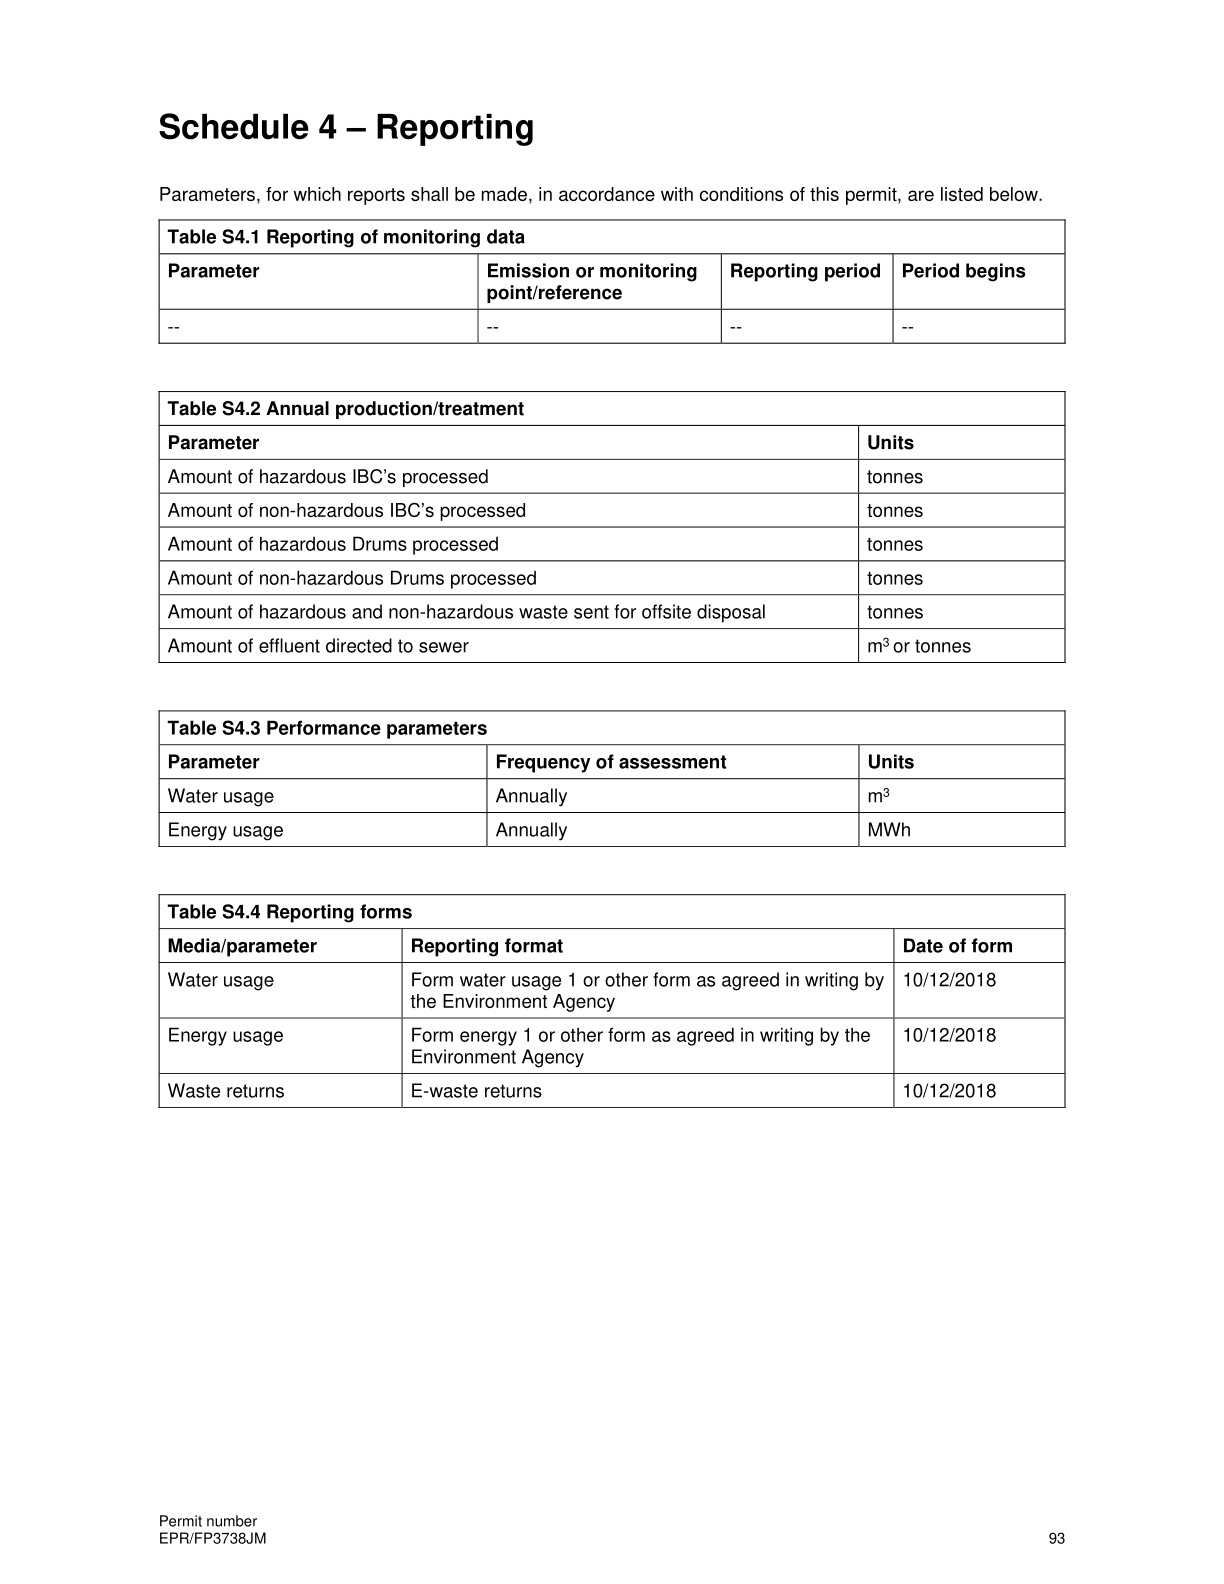merged_cells: (157, 388, 1067, 665), (156, 892, 1068, 1110), (156, 708, 1067, 849), (156, 216, 1067, 346)
